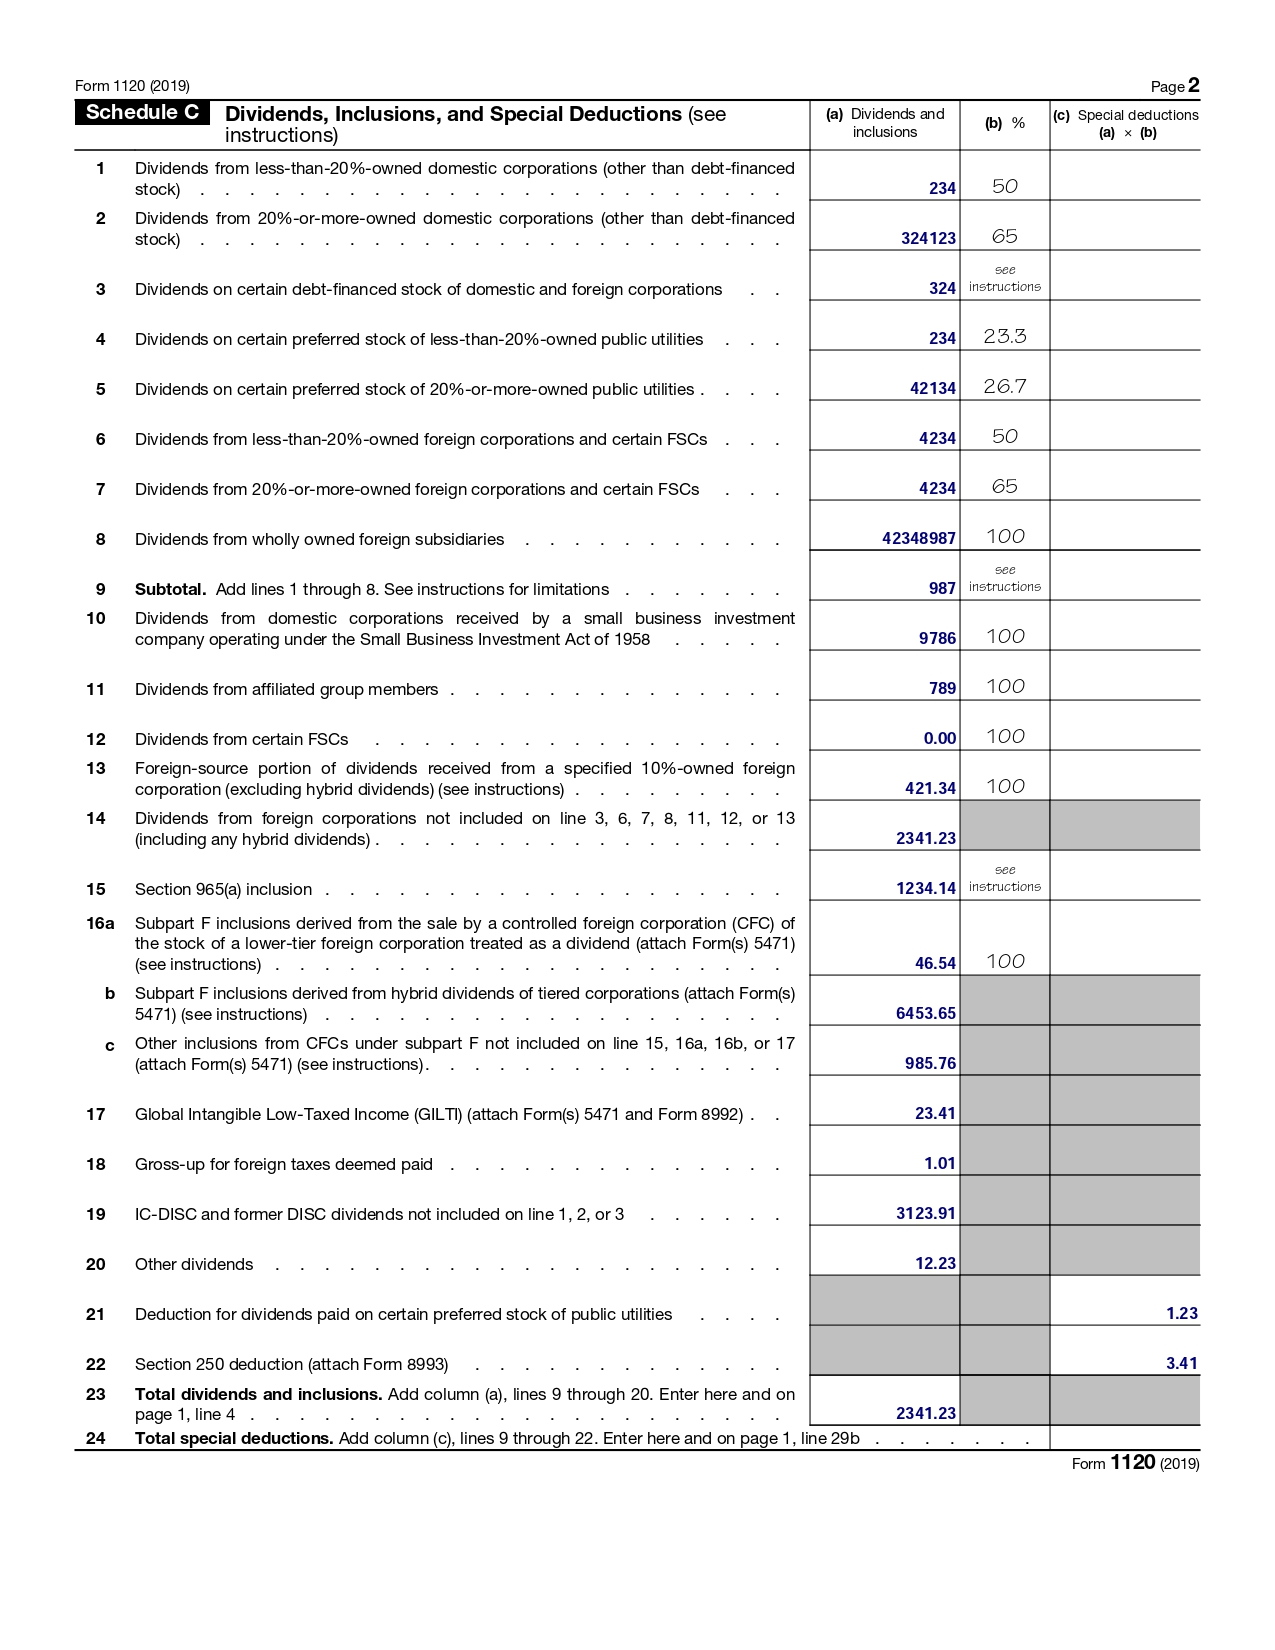table: (66, 96, 1229, 1450)
